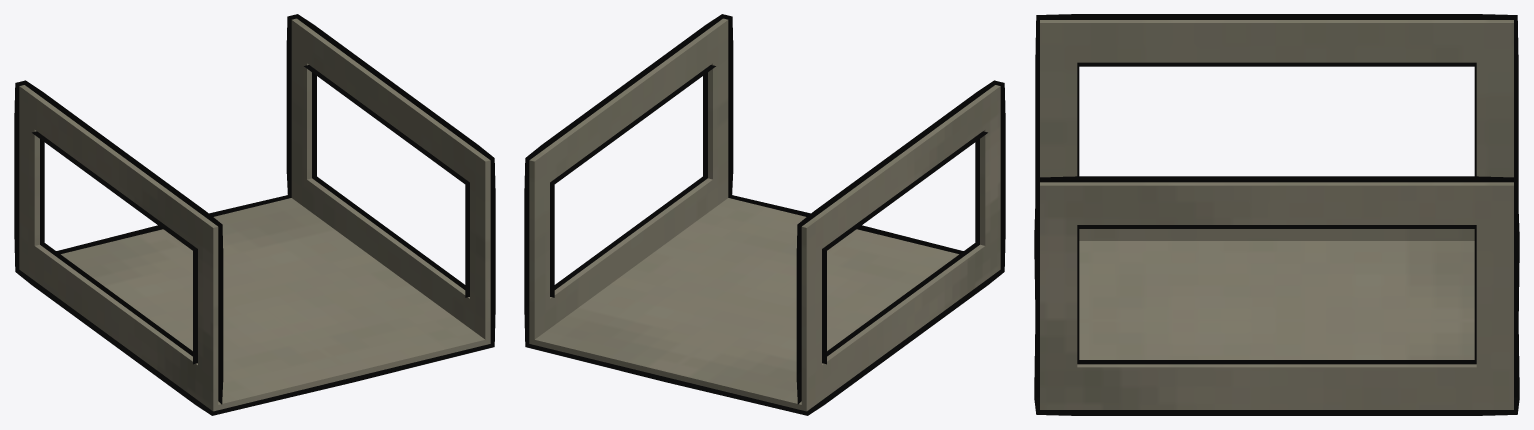
The model's file is Porta papel.glb.
The picture shows the model from 3 angles, left to right: view 1: azimuth 30°, elevation 25°; view 2: azimuth 150°, elevation 25°; view 3: azimuth 270°, elevation 25°; orthographic projection. The views are drawn at different scales.
Parts seen in each view (by area): view 1: Porta Papel_001; view 2: Porta Papel_001; view 3: Porta Papel_001.
Part boxes in pixels (x1,y1,x2,y2): Porta Papel_001: [14, 14, 495, 415]; Porta Papel_001: [524, 14, 1005, 415]; Porta Papel_001: [1034, 14, 1519, 415].
Size of the model in its own units: 0.2526 by 0.162 by 0.3042.
2 materials, 1 textured.
